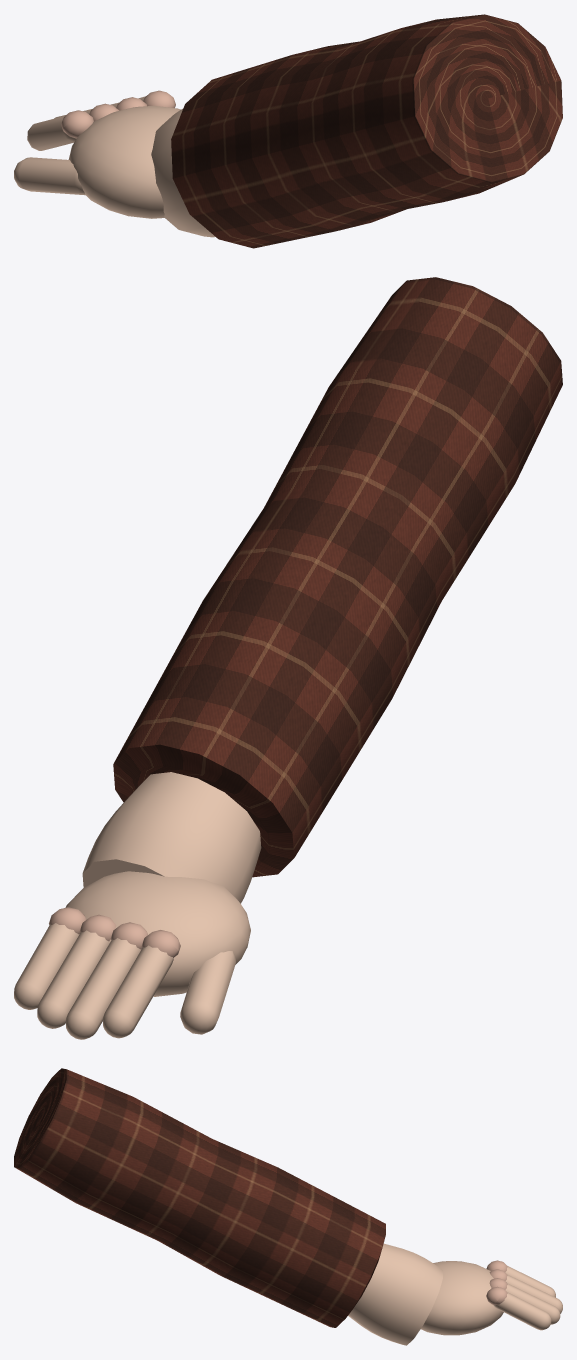
File: fp-drink.glb
3 views of the same model, one above another, from view 1: azimuth 30°, elevation 25°; view 2: azimuth 150°, elevation 25°; view 3: azimuth 270°, elevation 25° (orthographic). The views are drawn at different scales.
Parts seen in each view (by area): view 1: arm, palm, knuckles; view 2: arm, palm, knuckles; view 3: arm, palm, knuckles.
Part boxes in pixels (box(x1,y1,x2,y2)): arm: box(151, 14, 562, 248); palm: box(14, 96, 180, 218); knuckles: box(61, 90, 175, 138); arm: box(82, 277, 562, 903); palm: box(14, 871, 250, 1039); knuckles: box(49, 907, 180, 957); arm: box(14, 1068, 442, 1345); palm: box(421, 1261, 562, 1335); knuckles: box(486, 1260, 507, 1304).
Bounding box in the file's own units: 0.1508 × 0.2832 × 0.5288.
3 materials, 1 textured.
